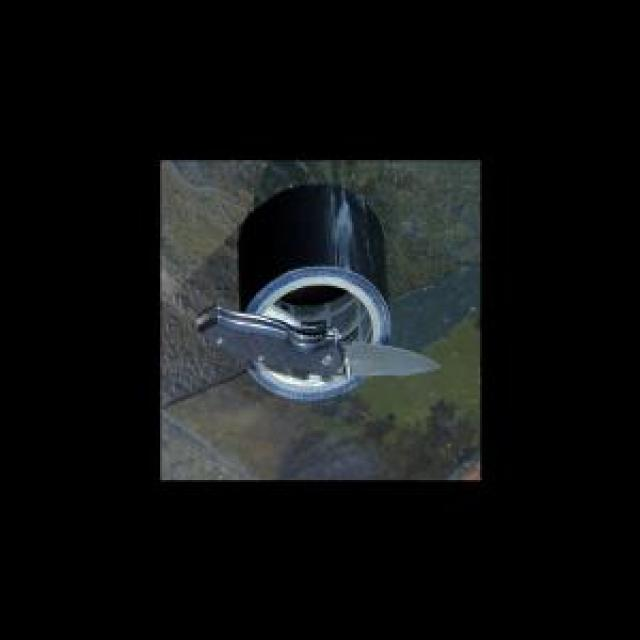knife: (192, 305, 444, 378)
